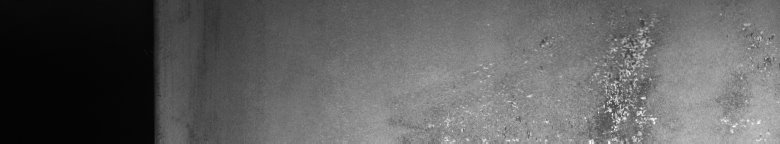hc: (428, 18, 663, 136)
